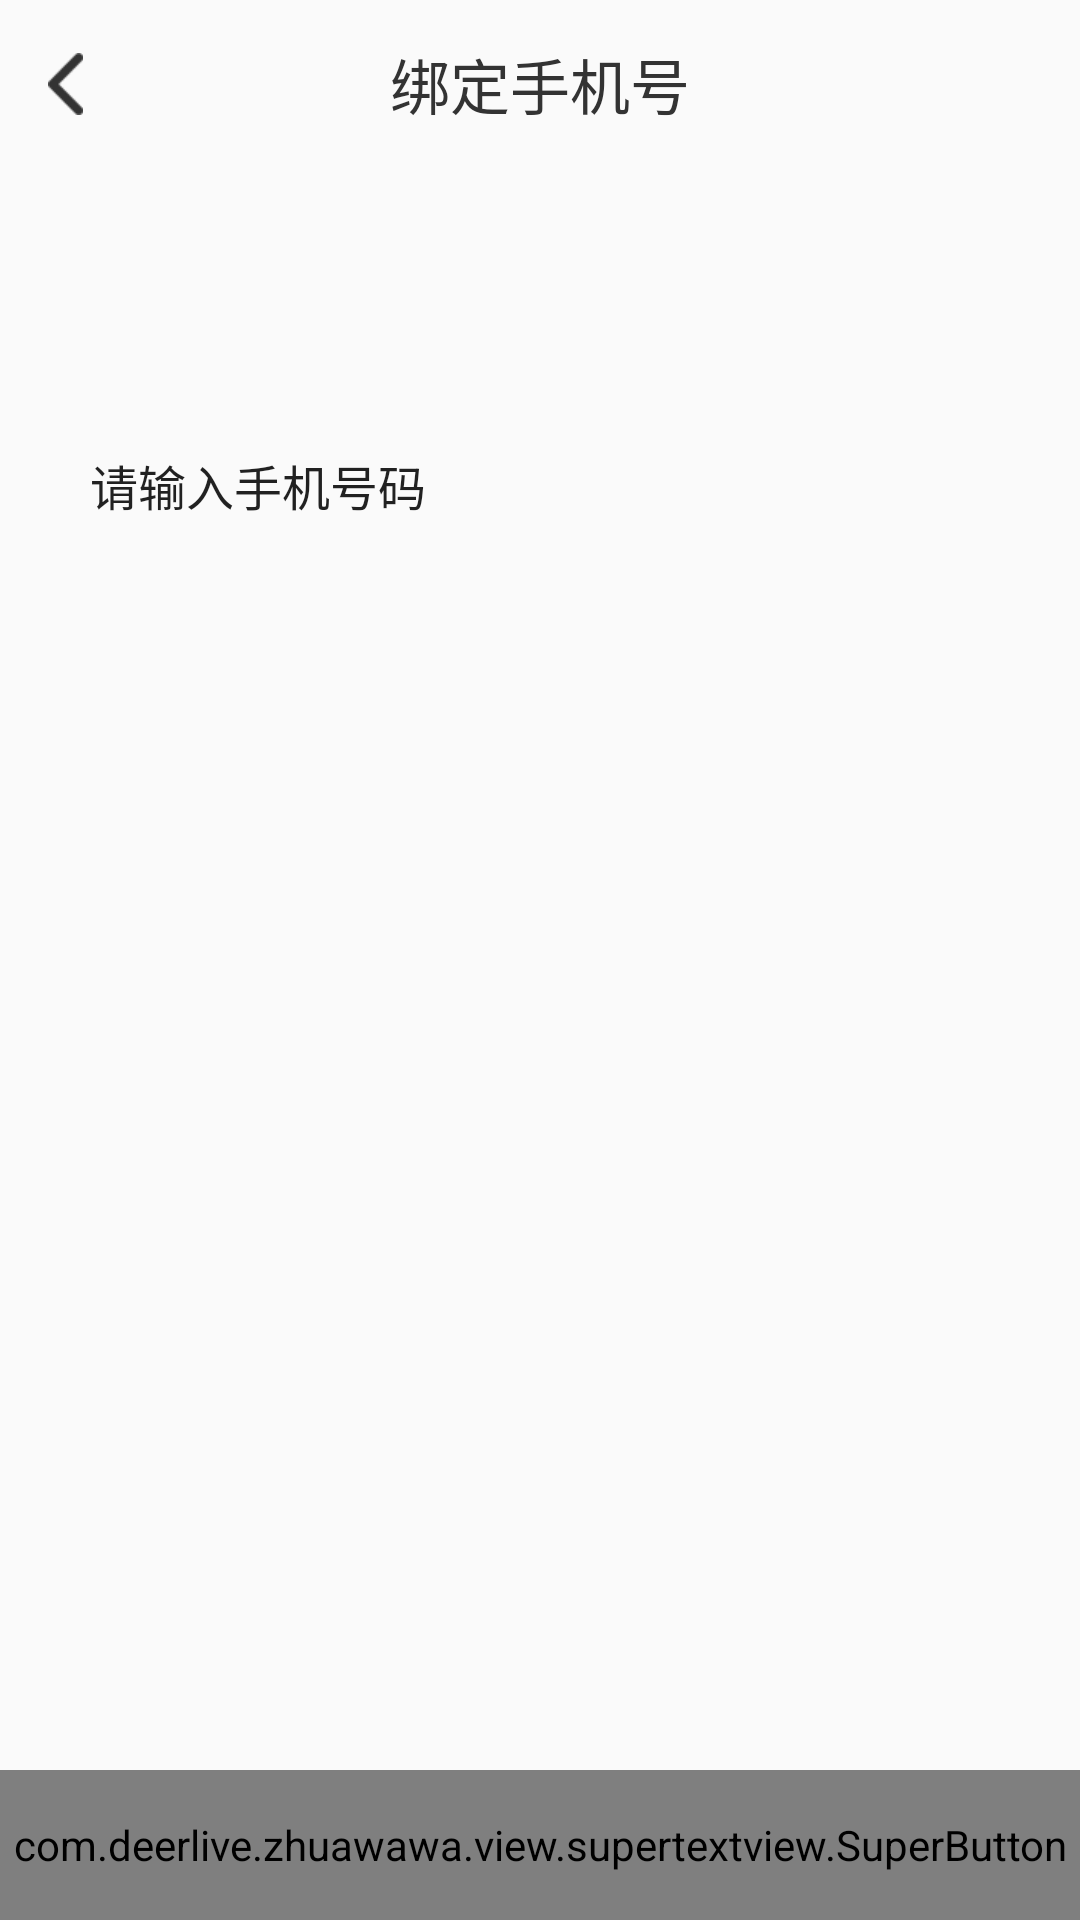

Screen size 1080x1920. Icon name, then its box in pixels as region(x1, y1, x2, y2):
left arrow: region(48, 53, 83, 115)
